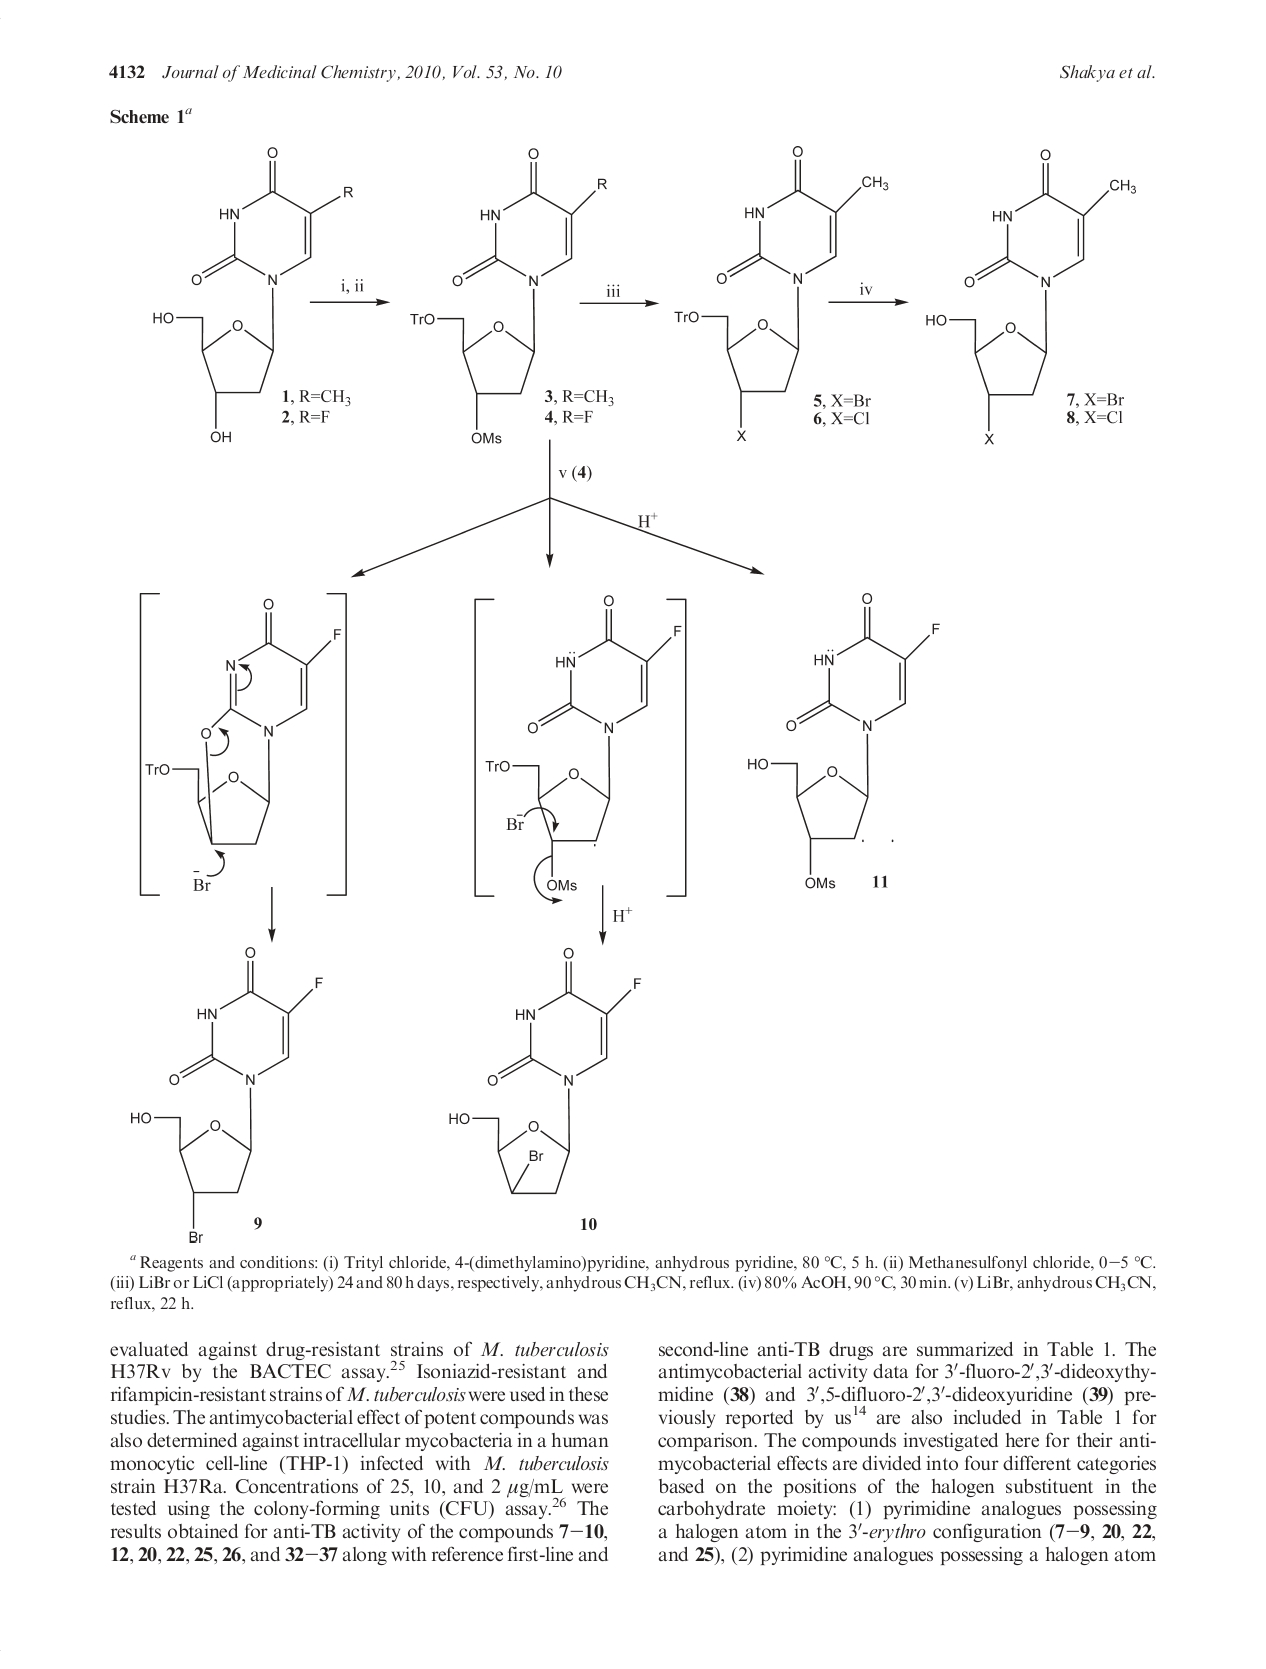exist_molecular: (670, 132, 899, 451), (923, 140, 1148, 448), (739, 571, 949, 898), (399, 141, 618, 449), (125, 939, 340, 1250), (149, 144, 360, 449), (485, 596, 685, 902), (146, 593, 348, 891), (447, 934, 652, 1208)
